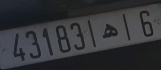1: (41, 28, 54, 57)
3: (25, 30, 41, 60), (70, 22, 86, 51)
4: (12, 32, 27, 63)
6: (139, 10, 155, 38)
8: (55, 25, 72, 55)
h: (100, 22, 119, 40)
